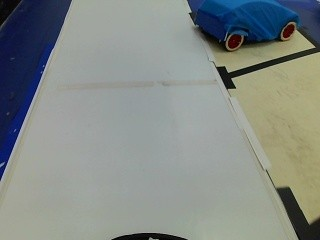car: (184, 0, 300, 50)
